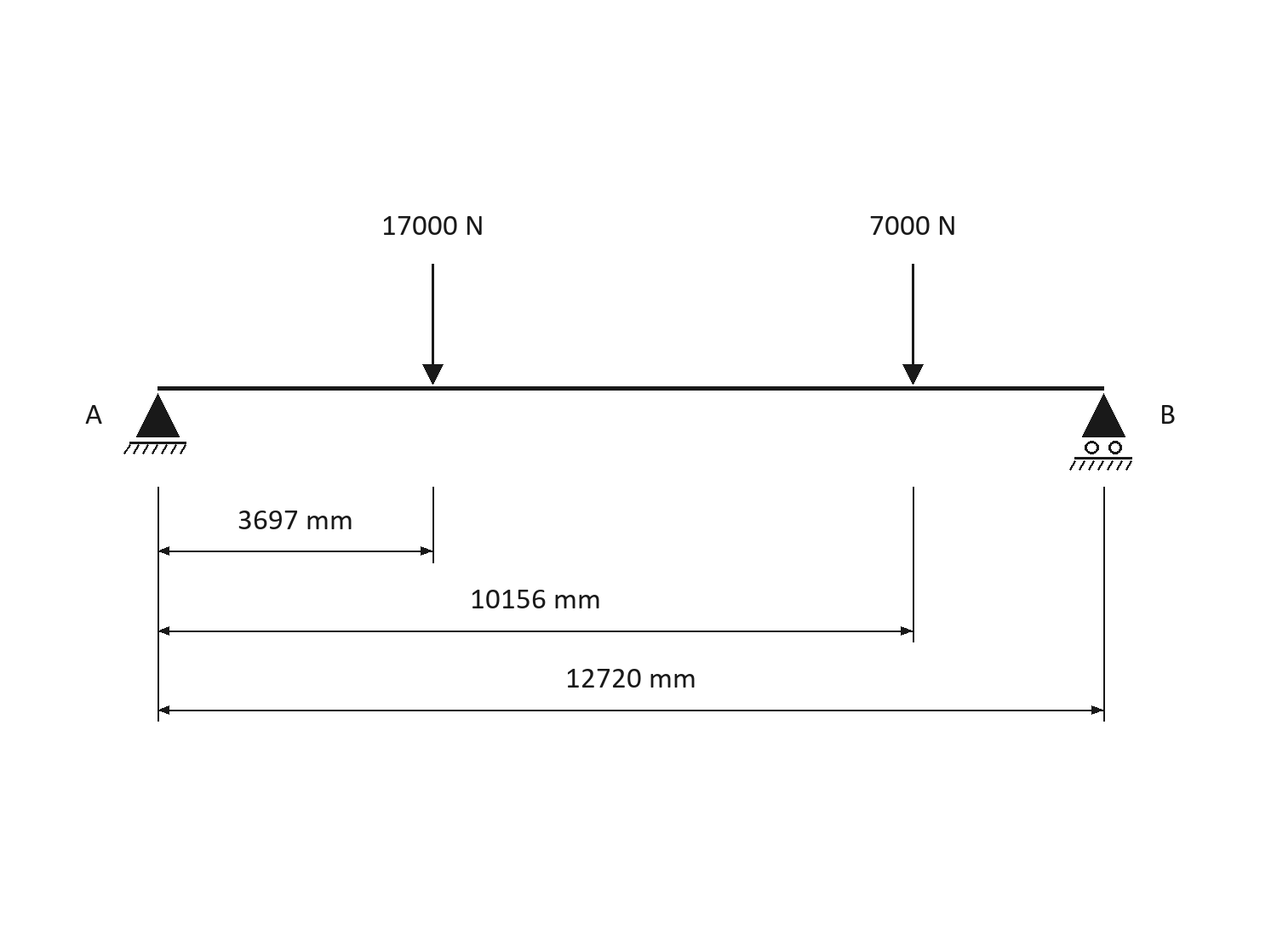pin_support: (123, 393, 186, 454)
point_load: (422, 264, 444, 385), (902, 264, 924, 385)
roller_support: (1069, 393, 1132, 471)
